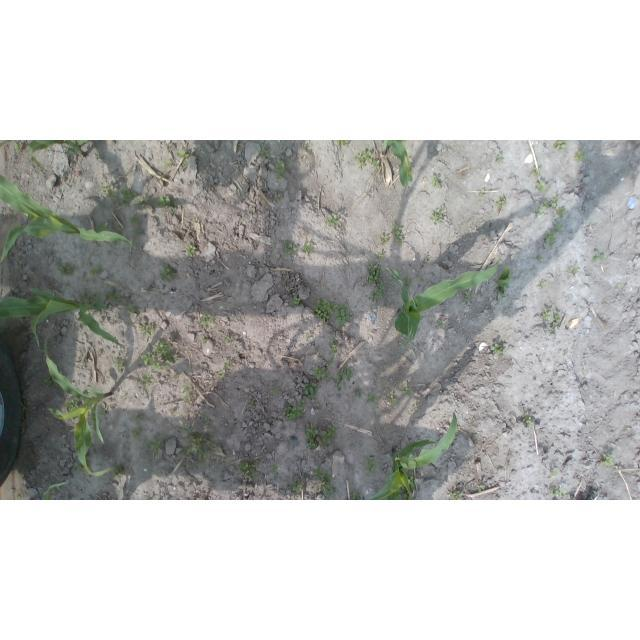Maize: (0, 172, 136, 263), (41, 330, 117, 477), (386, 255, 501, 350), (367, 412, 458, 500), (1, 288, 126, 349), (1, 140, 94, 170), (379, 140, 412, 188), (40, 482, 106, 500)
Weeds: (176, 421, 216, 470), (138, 340, 175, 372), (101, 184, 137, 209), (313, 466, 336, 500), (365, 263, 385, 302), (77, 289, 108, 310), (496, 265, 512, 299), (334, 364, 354, 390), (154, 195, 180, 213), (238, 459, 260, 480), (284, 399, 305, 421), (315, 299, 334, 322), (129, 213, 145, 239), (319, 425, 336, 446), (334, 304, 350, 326), (304, 425, 318, 450), (146, 436, 165, 454), (55, 260, 75, 277), (312, 365, 332, 381), (390, 222, 404, 244), (354, 149, 371, 167), (429, 205, 445, 224), (159, 266, 177, 282), (406, 469, 419, 490), (282, 240, 298, 257), (541, 194, 560, 208), (274, 158, 286, 180), (201, 312, 216, 329), (291, 478, 306, 495), (364, 456, 378, 474), (549, 312, 561, 332), (395, 484, 410, 500), (65, 397, 81, 412), (139, 323, 156, 337), (599, 453, 615, 467), (325, 213, 341, 227), (304, 383, 318, 399), (135, 196, 152, 209), (544, 230, 556, 248), (141, 375, 155, 390), (549, 485, 568, 496), (110, 468, 126, 481), (401, 276, 413, 293), (175, 149, 189, 163), (108, 290, 123, 303), (573, 149, 587, 162), (532, 204, 545, 218), (125, 303, 138, 317), (553, 140, 568, 152), (591, 250, 606, 262), (491, 343, 506, 355), (522, 413, 534, 428), (182, 382, 191, 402), (349, 489, 365, 500), (115, 358, 128, 371), (184, 244, 197, 257), (429, 175, 441, 189), (494, 195, 506, 209), (365, 392, 379, 404), (447, 490, 463, 500), (536, 180, 549, 192), (89, 266, 102, 278), (131, 427, 143, 440), (541, 307, 552, 321), (302, 242, 314, 254), (555, 206, 566, 218), (269, 464, 279, 477), (569, 264, 580, 275), (74, 461, 85, 472), (354, 389, 365, 400), (260, 146, 270, 158), (328, 343, 338, 355), (553, 221, 563, 232), (388, 395, 399, 405), (269, 385, 279, 396), (530, 168, 542, 177), (324, 358, 336, 367), (334, 140, 351, 146), (549, 467, 559, 477), (465, 291, 474, 302), (247, 395, 255, 407), (477, 189, 487, 198), (496, 153, 504, 164), (224, 334, 233, 343), (437, 320, 446, 329), (132, 416, 141, 425), (402, 387, 412, 395), (380, 234, 388, 244), (218, 369, 226, 379), (164, 160, 172, 169), (476, 484, 485, 492), (15, 140, 21, 152), (389, 274, 397, 283), (292, 296, 300, 305), (204, 416, 212, 425), (373, 160, 380, 170), (274, 195, 284, 202), (94, 152, 102, 160), (224, 359, 230, 369), (540, 282, 548, 289), (419, 275, 426, 283), (201, 335, 207, 344), (378, 252, 384, 261), (306, 334, 313, 341), (537, 254, 544, 260), (85, 456, 93, 461), (472, 417, 477, 425), (615, 284, 621, 289), (519, 403, 524, 409), (304, 144, 309, 150), (414, 406, 419, 412), (564, 350, 569, 355), (171, 410, 176, 415), (397, 380, 402, 384), (80, 278, 84, 283), (570, 497, 576, 500)
